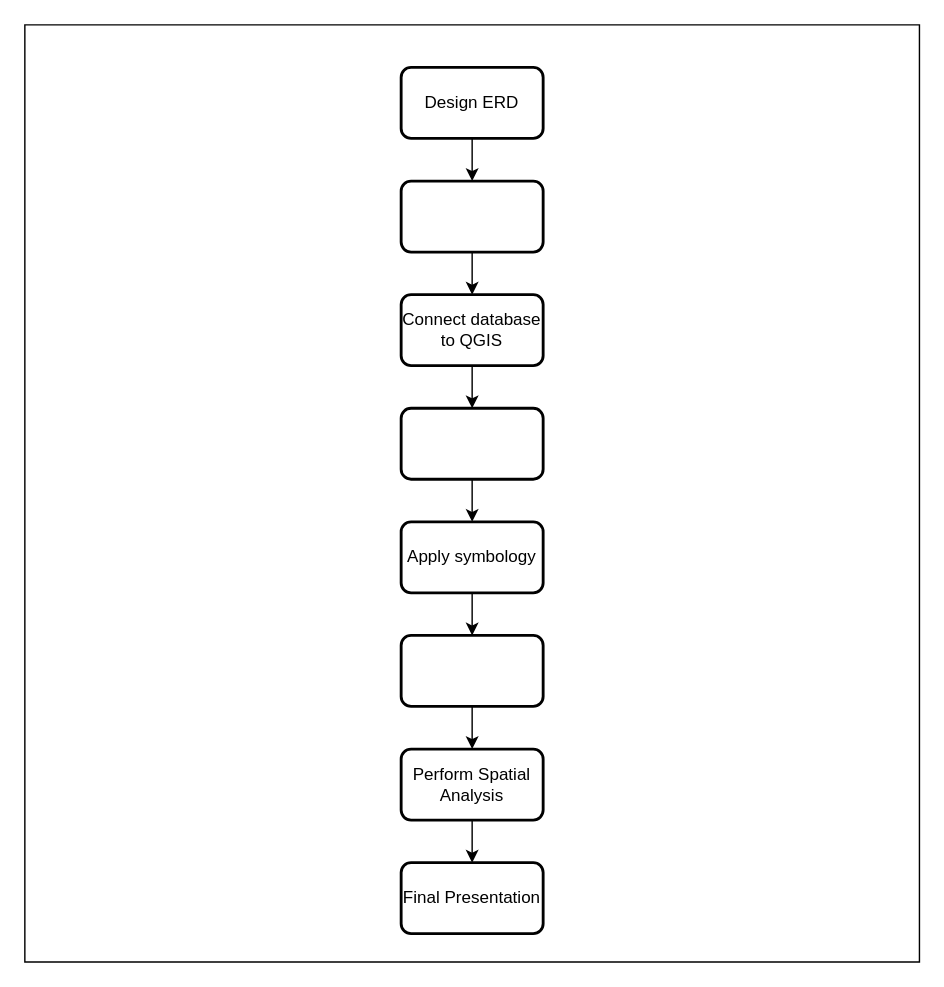
Image size: 944x987. Some labels were removed from this diagram. Each missing label, with the centre of its shape:
Collect field data: the point at 471,670
Design the form: the point at 471,443
Generate spatial database: the point at 471,216
